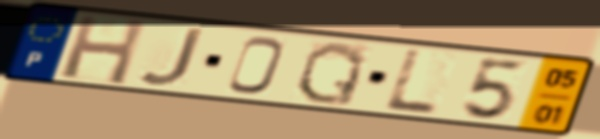0: (226, 35, 289, 96)
5: (458, 54, 533, 122)
H: (57, 13, 150, 88)
J: (135, 26, 209, 89)
L: (379, 47, 441, 117)
Q: (291, 39, 370, 108)
